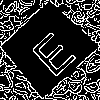E: (22, 23, 78, 79)
